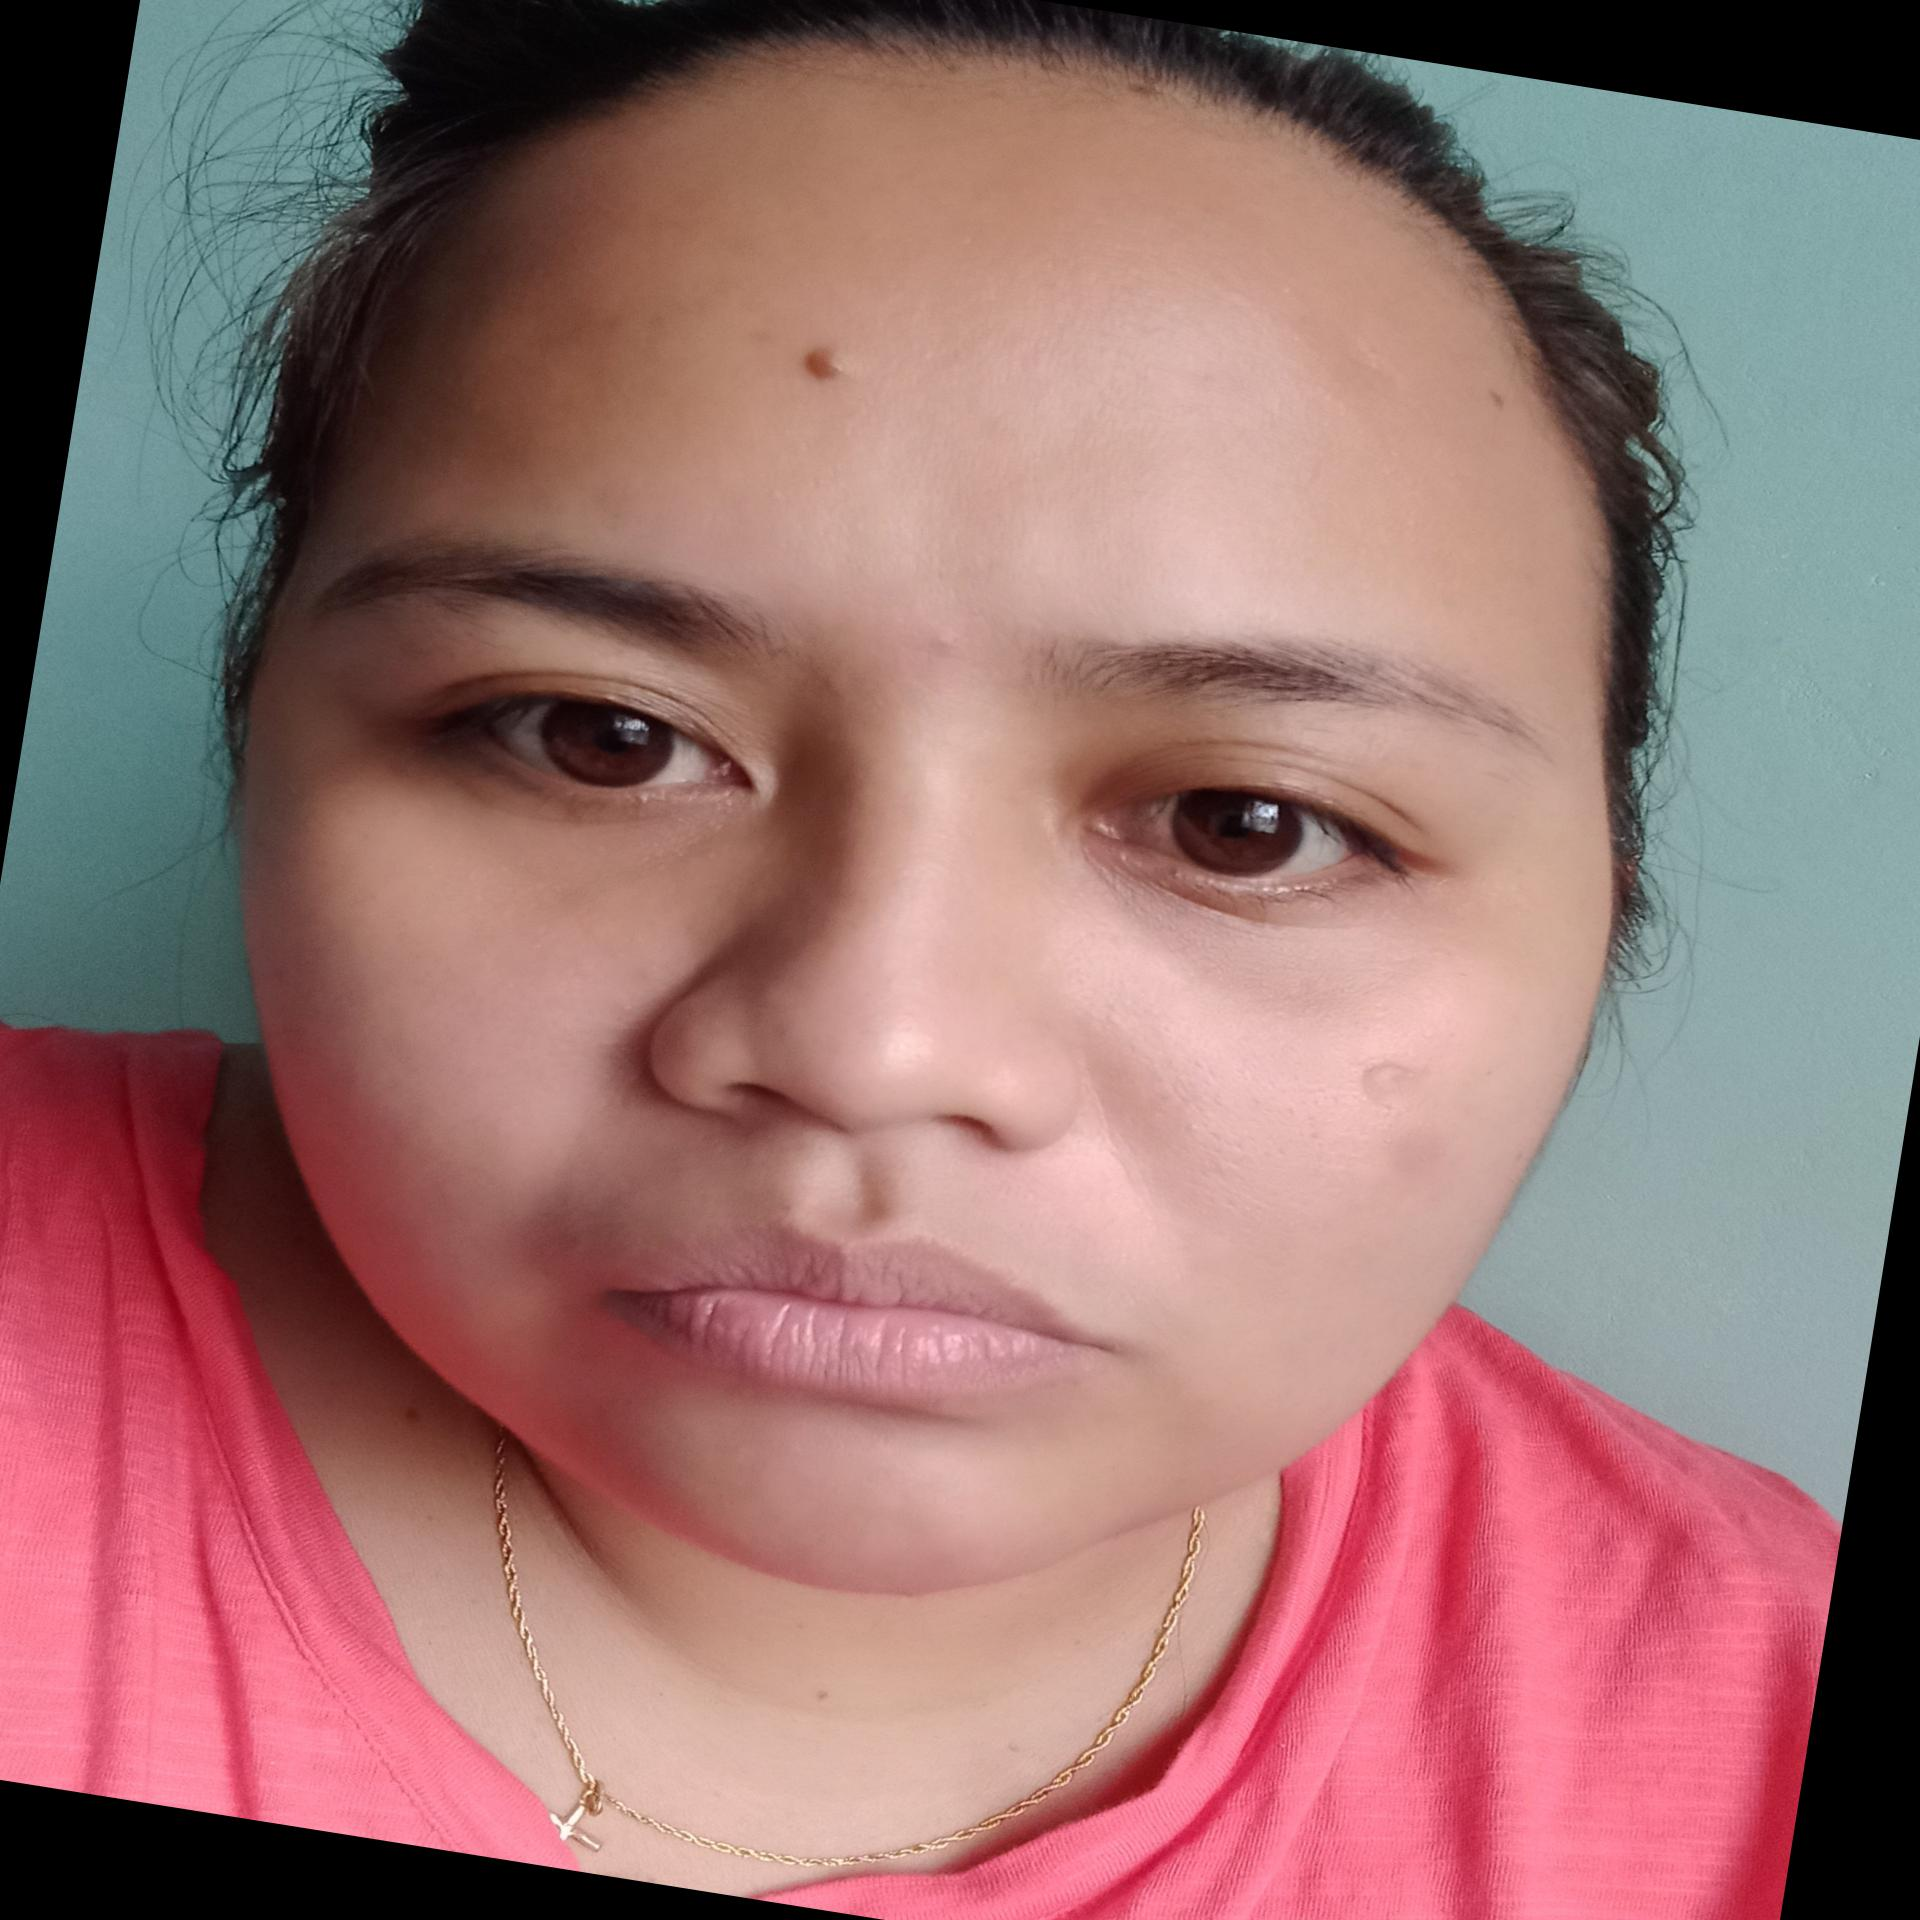Dark Circles: (299, 738, 800, 951), (1002, 849, 1456, 1039)
Englarged Pores: (1088, 1022, 1363, 1238)
